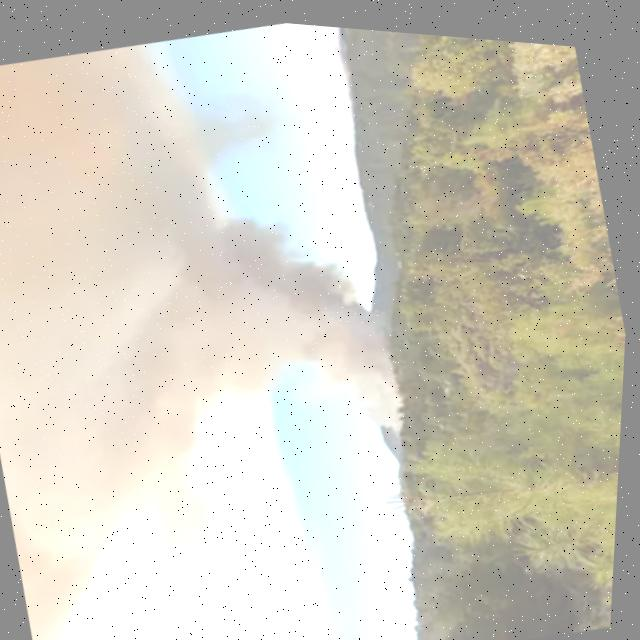Smoke: (140, 176, 438, 474)
